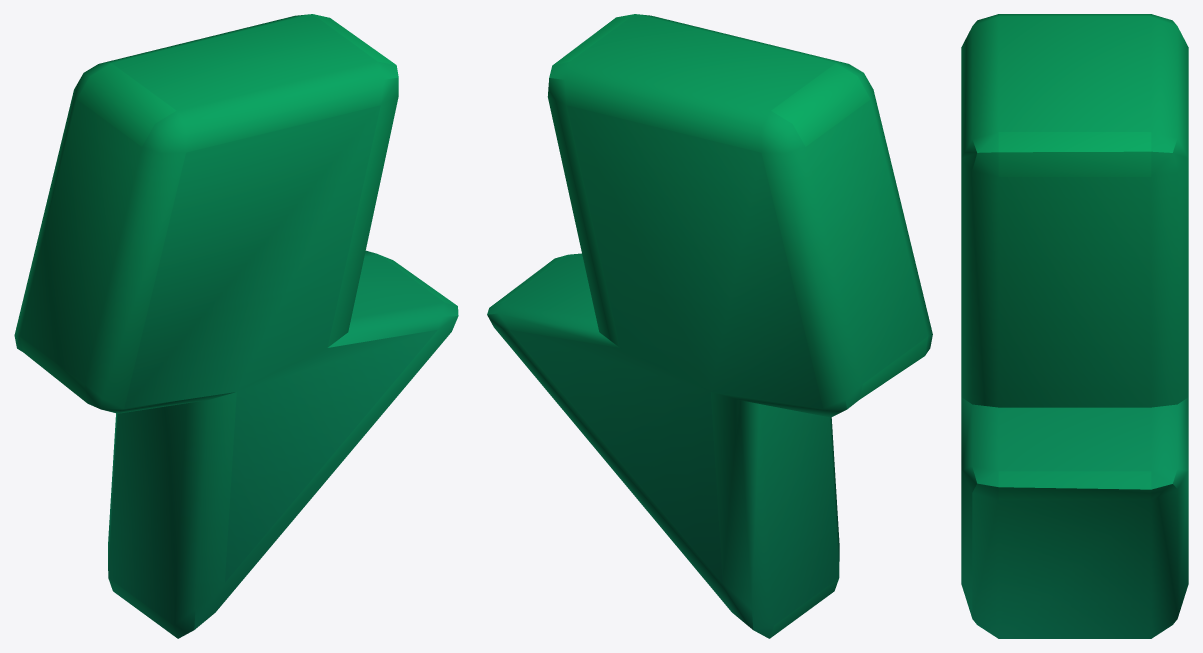
File: kaykit_power_green.glb
3 renders of one model, left to right at view 1: azimuth 30°, elevation 25°; view 2: azimuth 150°, elevation 25°; view 3: azimuth 270°, elevation 25°, orthographic. The views are drawn at different scales.
Visible parts, largest first — view 1: power_green_visual; view 2: power_green_visual; view 3: power_green_visual.
Boxes of the visible parts, bbox=[...] form: power_green_visual: bbox=[14, 14, 458, 638]; power_green_visual: bbox=[487, 14, 932, 638]; power_green_visual: bbox=[961, 14, 1188, 638].
Size of what is drawn, in the model's own units: 0.8907 by 1.2 by 0.4.
Materials: 1 (1 with a texture image).
